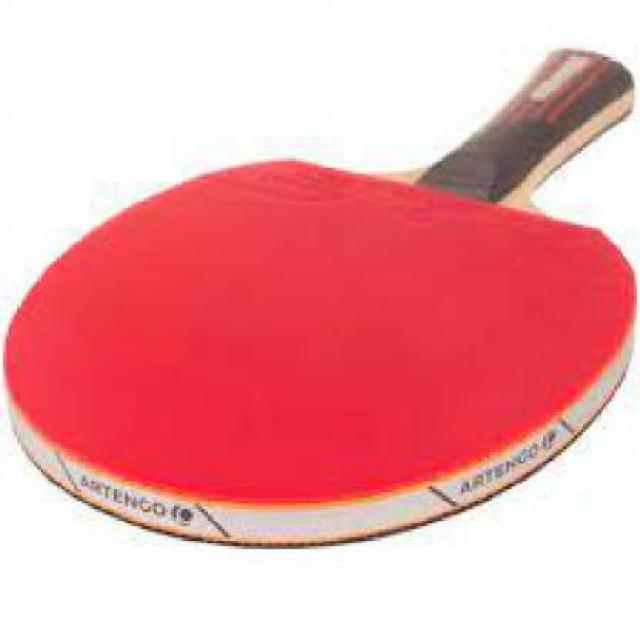table_tennis_racket: (5, 139, 638, 561)
